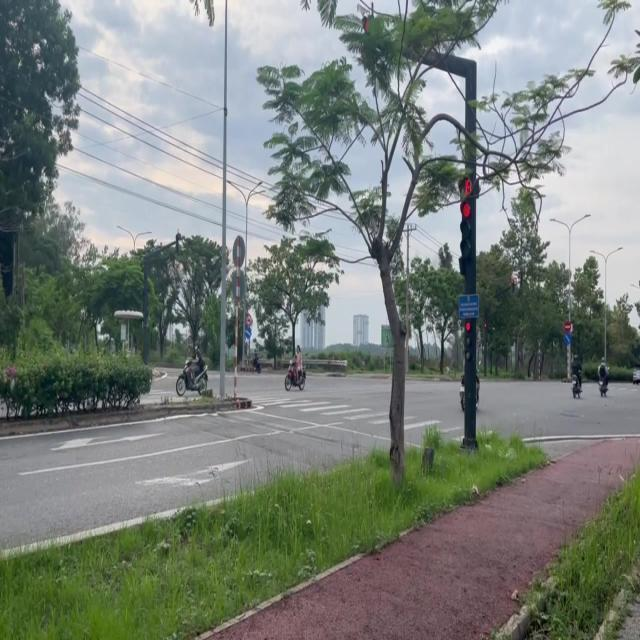red_light: (458, 168, 477, 286)
